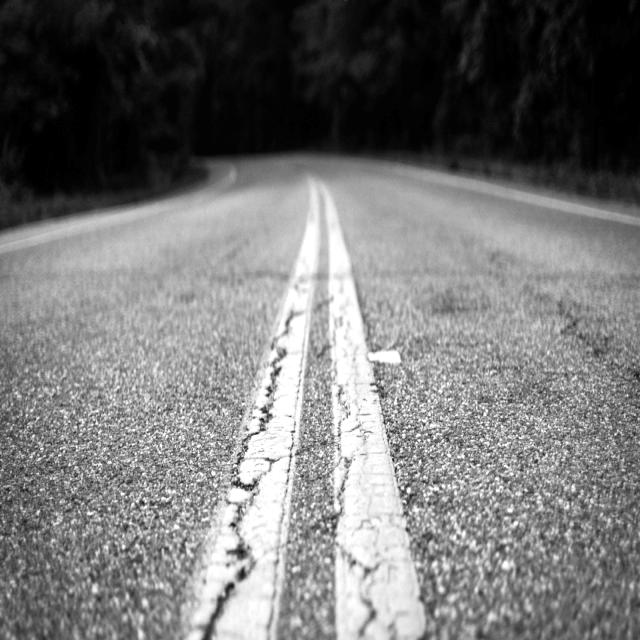cleat: (55, 134, 618, 640)
